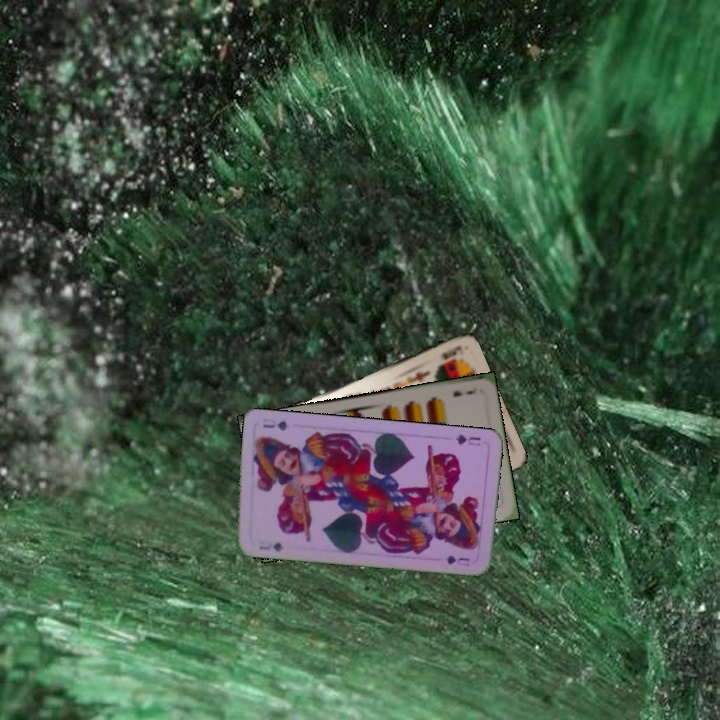E7: (449, 383, 480, 400)
GU: (451, 430, 483, 448), (255, 536, 286, 554)
SK: (437, 341, 464, 362)
